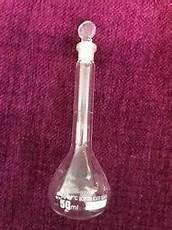Volumetric flask: (39, 18, 116, 220)
